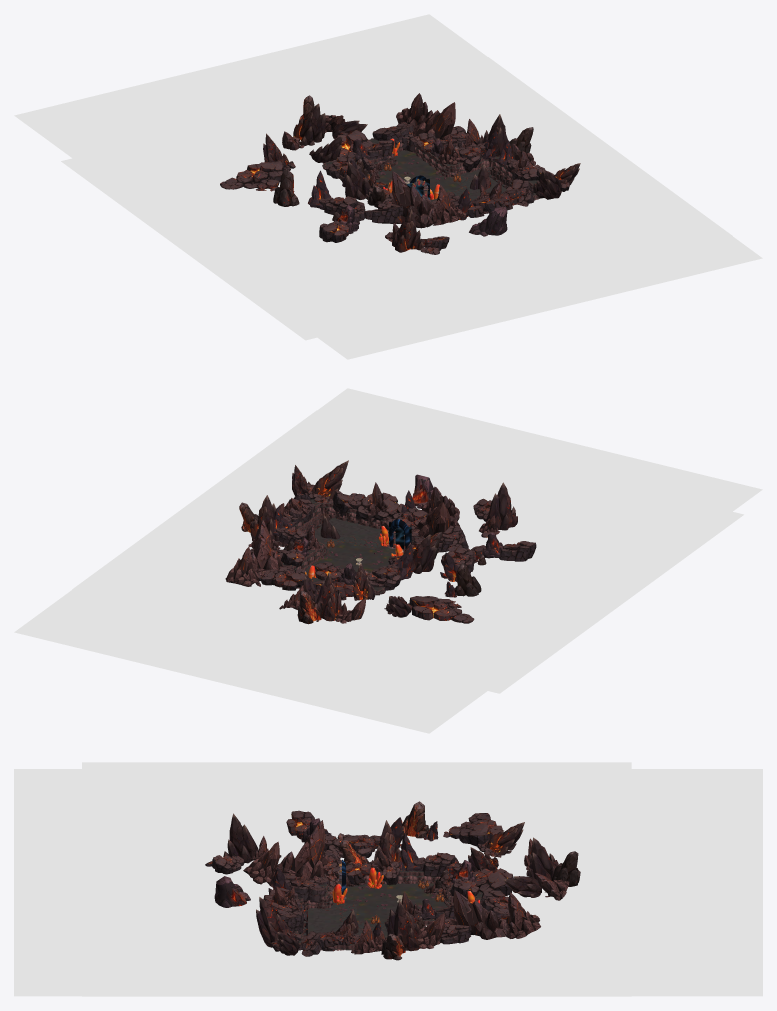
Rendered from LevelMap_1070901.glb.
The picture shows the model from 3 angles, top to bottom: view 1: azimuth 30°, elevation 25°; view 2: azimuth 150°, elevation 25°; view 3: azimuth 270°, elevation 25°; orthographic projection. The views are drawn at different scales.
Visible parts, largest first — view 1: EnvCavern_Detail__Lava_3__u1682, EnvCavern_Detail__Lava_5__u2274, EnvCavern_Detail__Lava_4__u1872, EnvCavern_Detail__Lava_2__u1722, LevelMap_1070901_Terrain__u1748, EnvCavern_Detail__Rock___5__u1836, EnvCavern_Detail__Rock___3__u1977, EnvCavern_Detail__Rock___5__u2260, EnvCavern_Detail__Rock___2__u1989, EnvCavern_Detail__Rock___2__u2657, EnvCavern_Detail__Rock___5__u2674, EnvCavern_Detail__Rock___6__u1969 (+5 smaller); view 2: EnvCavern_Detail__Lava_5__u2274, EnvCavern_Detail__Lava_3__u1682, EnvCavern_Detail__Lava_4__u1872, EnvCavern_Detail__Lava_2__u1722, LevelMap_1070901_Terrain__u1748, EnvCavern_Detail__Rock___3__u1977, EnvCavern_Detail__Rock___5__u2260, EnvCavern_Detail__Rock___2__u2657, EnvCavern_Detail__Rock___2__u1989, EnvCavern_Detail__Rock___3__u2181, EnvCavern_Detail__Rock___5__u1836, EnvCavern_Detail__Lava_1__u2342 (+8 smaller); view 3: EnvCavern_Detail__Lava_5__u2274, EnvCavern_Detail__Lava_3__u1682, EnvCavern_Detail__Lava_4__u1872, EnvCavern_Detail__Lava_2__u1722, LevelMap_1070901_Terrain__u1748, EnvCavern_Detail__Lava_1__u2342, EnvCavern_Detail__Rock___5__u1836, EnvCavern_Detail__Rock___5__u2260, EnvCavern_Detail__Rock___3__u1977, EnvCavern_Detail__Rock___5__u1564, EnvCavern_Detail__Rock___2__u2031, EnvCavern_Detail__Rock___2__u2657 (+28 smaller).
Part boxes in pixels (x1=…): EnvCavern_Detail__Lava_3__u1682: x1=61, y1=110, x2=512, y2=340; EnvCavern_Detail__Lava_5__u2274: x1=14, y1=14, x2=550, y2=207; EnvCavern_Detail__Lava_4__u1872: x1=222, y1=170, x2=762, y2=359; EnvCavern_Detail__Lava_2__u1722: x1=392, y1=57, x2=732, y2=259; LevelMap_1070901_Terrain__u1748: x1=367, y1=150, x2=506, y2=200; EnvCavern_Detail__Rock___5__u1836: x1=392, y1=171, x2=436, y2=228; EnvCavern_Detail__Rock___3__u1977: x1=220, y1=160, x2=284, y2=189; EnvCavern_Detail__Rock___5__u2260: x1=412, y1=102, x2=455, y2=140; EnvCavern_Detail__Rock___2__u1989: x1=293, y1=103, x2=325, y2=145; EnvCavern_Detail__Rock___2__u2657: x1=392, y1=209, x2=424, y2=252; EnvCavern_Detail__Rock___5__u2674: x1=426, y1=184, x2=466, y2=227; EnvCavern_Detail__Rock___6__u1969: x1=469, y1=207, x2=507, y2=236; EnvCavern_Detail__Lava_5__u2274: x1=14, y1=542, x2=554, y2=733; EnvCavern_Detail__Lava_3__u1682: x1=292, y1=464, x2=743, y2=693; EnvCavern_Detail__Lava_4__u1872: x1=223, y1=388, x2=762, y2=581; EnvCavern_Detail__Lava_2__u1722: x1=72, y1=410, x2=412, y2=612; LevelMap_1070901_Terrain__u1748: x1=305, y1=518, x2=404, y2=575; EnvCavern_Detail__Rock___3__u1977: x1=409, y1=596, x2=474, y2=623; EnvCavern_Detail__Rock___5__u2260: x1=251, y1=519, x2=285, y2=576; EnvCavern_Detail__Rock___2__u2657: x1=486, y1=482, x2=517, y2=530; EnvCavern_Detail__Rock___2__u1989: x1=316, y1=572, x2=346, y2=621; EnvCavern_Detail__Rock___3__u2181: x1=348, y1=493, x2=399, y2=521; EnvCavern_Detail__Rock___5__u1836: x1=413, y1=502, x2=459, y2=537; EnvCavern_Detail__Lava_1__u2342: x1=167, y1=534, x2=284, y2=598; EnvCavern_Detail__Lava_5__u2274: x1=480, y1=769, x2=762, y2=996; EnvCavern_Detail__Lava_3__u1682: x1=82, y1=762, x2=631, y2=863; EnvCavern_Detail__Lava_4__u1872: x1=14, y1=769, x2=296, y2=996; EnvCavern_Detail__Lava_2__u1722: x1=82, y1=943, x2=631, y2=996; LevelMap_1070901_Terrain__u1748: x1=308, y1=883, x2=447, y2=936; EnvCavern_Detail__Lava_1__u2342: x1=413, y1=925, x2=574, y2=961; EnvCavern_Detail__Rock___5__u1836: x1=275, y1=820, x2=328, y2=880; EnvCavern_Detail__Rock___5__u2260: x1=450, y1=890, x2=508, y2=939; EnvCavern_Detail__Rock___3__u1977: x1=459, y1=813, x2=503, y2=846; EnvCavern_Detail__Rock___5__u1564: x1=504, y1=892, x2=540, y2=938; EnvCavern_Detail__Rock___2__u2031: x1=387, y1=900, x2=421, y2=950; EnvCavern_Detail__Rock___2__u2657: x1=223, y1=813, x2=258, y2=863.
Size of the model in its own units: 76.63 by 16.57 by 104.
23 materials, 22 textured.
